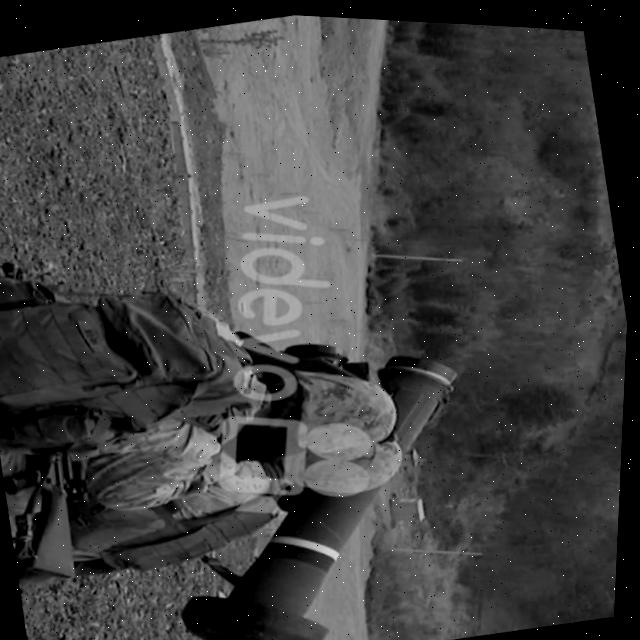rocket: (133, 288, 514, 640)
